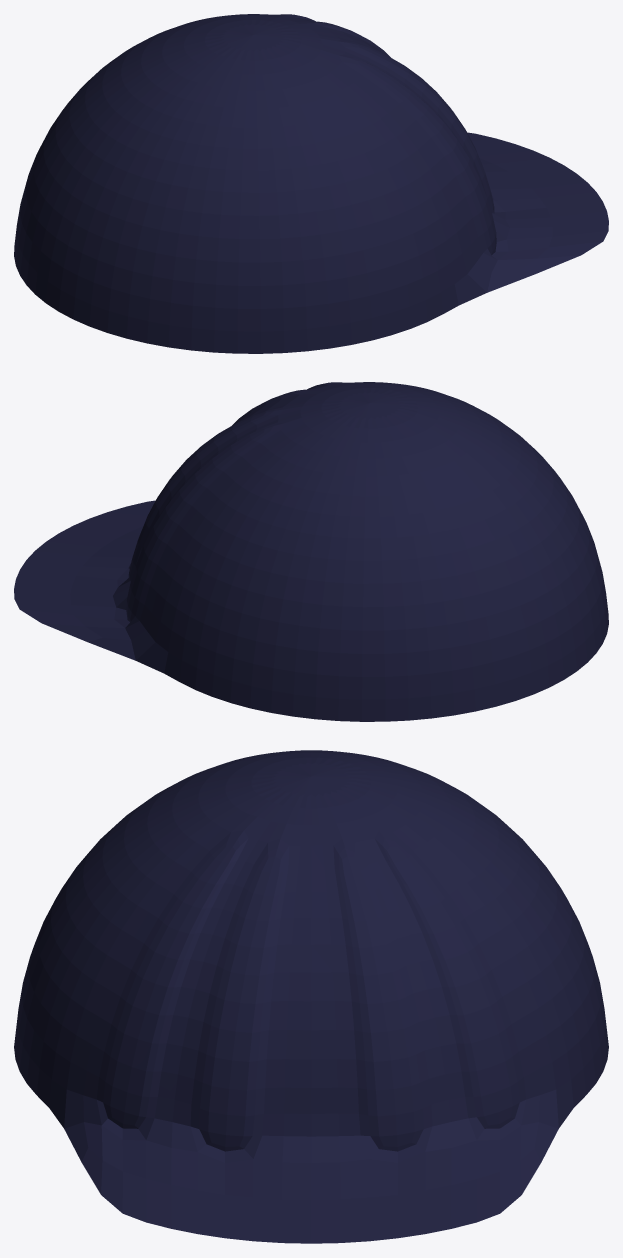
File: halvanic_face_model_1.gltf
The picture shows the model from 3 angles, top to bottom: view 1: azimuth 30°, elevation 25°; view 2: azimuth 150°, elevation 25°; view 3: azimuth 270°, elevation 25°; orthographic projection. The views are drawn at different scales.
Visible parts, largest first — view 1: Сфера; view 2: Сфера; view 3: Сфера.
Part boxes in pixels (x1,y1,x2,y2): Сфера: (14, 14, 608, 353); Сфера: (14, 382, 608, 721); Сфера: (14, 750, 608, 1243).
Size of the model in its own units: 2.55 by 0.9976 by 1.99.
